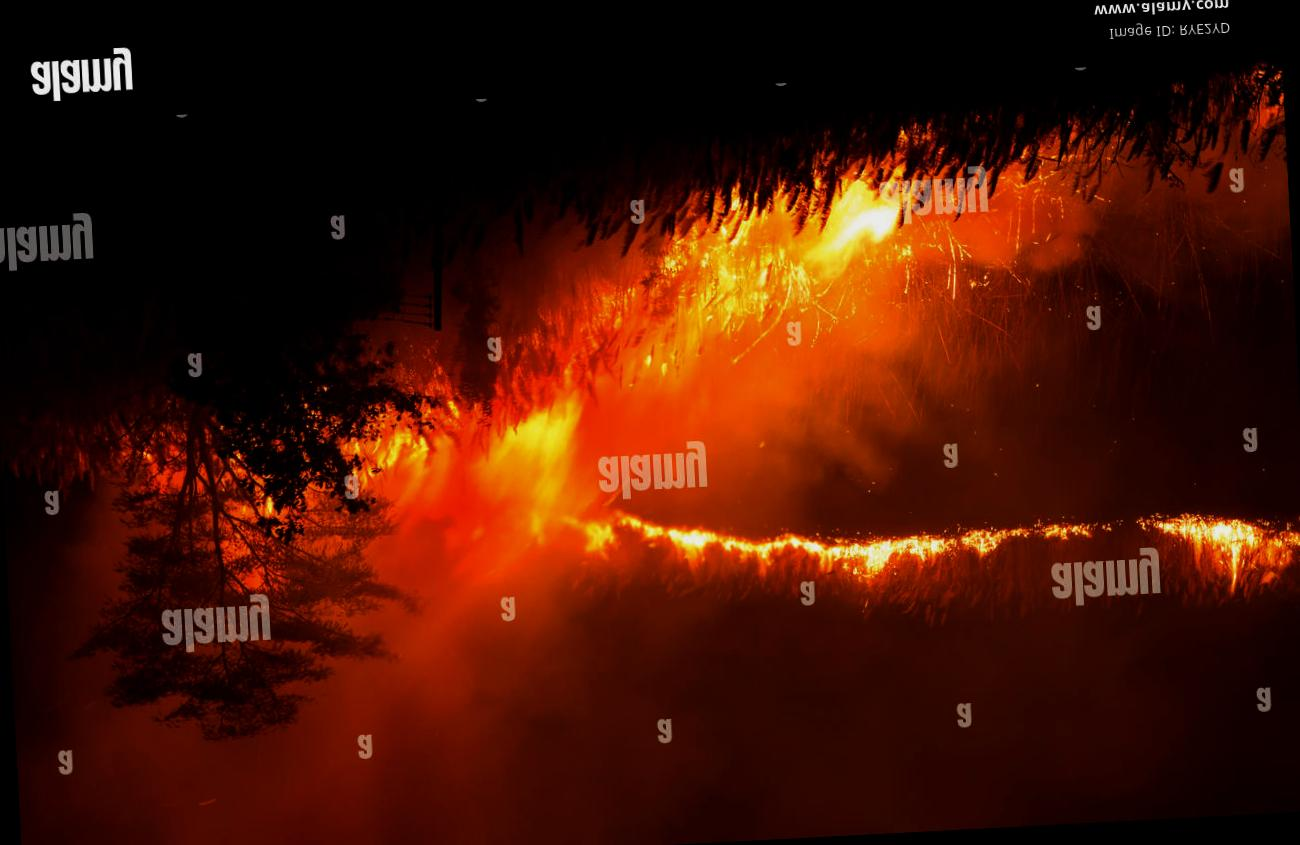fire: (100, 154, 994, 500), (117, 177, 961, 495), (751, 512, 1124, 594), (556, 503, 739, 574), (1156, 499, 1300, 580)
